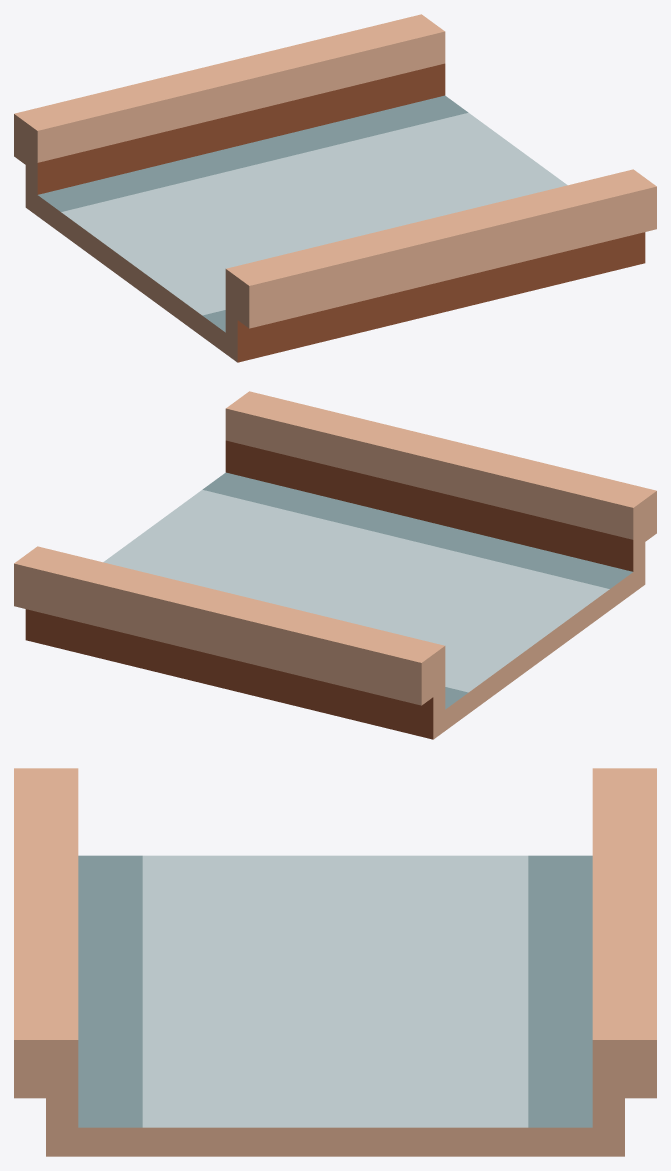
The model's file is bridge_center_woodRound.glb.
The picture shows the model from 3 angles, top to bottom: view 1: azimuth 30°, elevation 25°; view 2: azimuth 150°, elevation 25°; view 3: azimuth 270°, elevation 25°; orthographic projection. The views are drawn at different scales.
Parts seen in each view (by area): view 1: bridge_center_woodRound; view 2: bridge_center_woodRound; view 3: bridge_center_woodRound.
Part boxes in pixels (x1=…): bridge_center_woodRound: x1=14, y1=14, x2=656, y2=362; bridge_center_woodRound: x1=14, y1=391, x2=656, y2=739; bridge_center_woodRound: x1=14, y1=768, x2=656, y2=1156.
Size of the model in its own units: 1 by 0.2 by 1.
